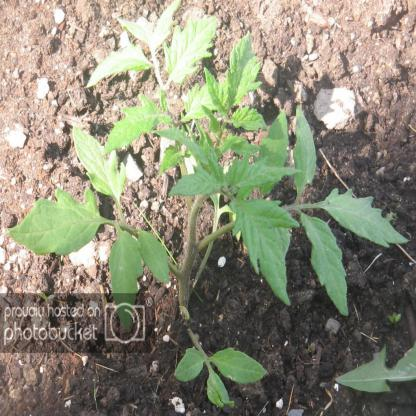tomato leaf: (234, 195, 296, 311), (11, 190, 102, 264), (318, 185, 409, 252), (101, 228, 148, 334), (67, 121, 126, 203), (160, 14, 220, 85), (98, 98, 159, 158), (227, 157, 301, 195), (225, 37, 261, 115), (294, 103, 321, 201), (208, 343, 270, 383), (137, 231, 172, 294), (174, 171, 228, 205), (178, 82, 222, 123), (168, 341, 210, 380), (201, 70, 229, 120), (205, 370, 233, 408), (228, 109, 268, 133)
